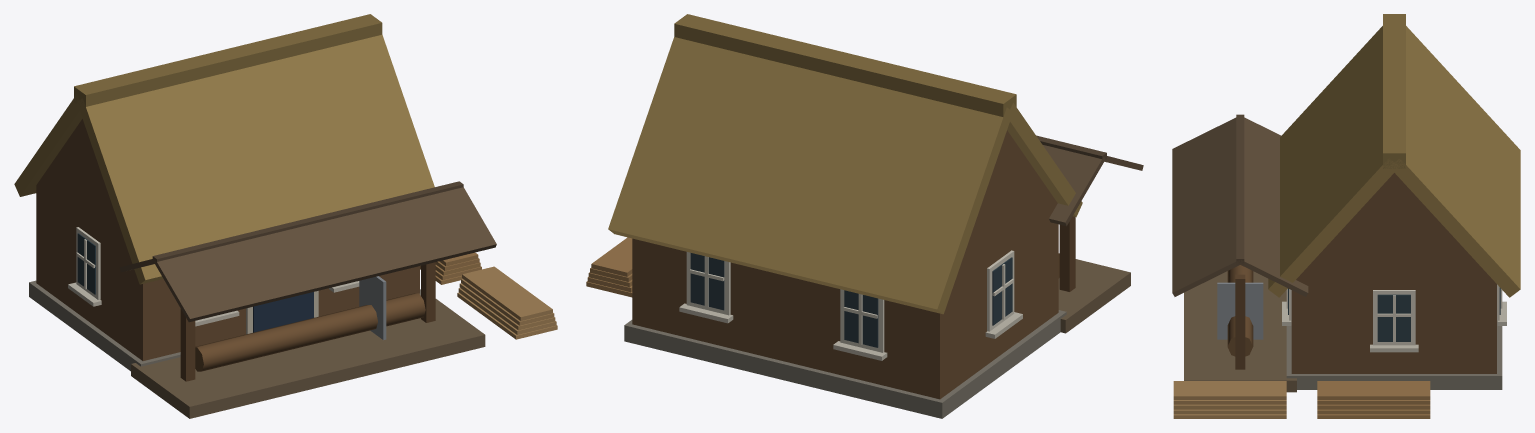
The model's file is procedural_saw@3.glb.
The picture shows the model from 3 angles, left to right: view 1: azimuth 30°, elevation 25°; view 2: azimuth 150°, elevation 25°; view 3: azimuth 270°, elevation 25°; orthographic projection. The views are drawn at different scales.
Visible parts, largest first — view 1: part_0; view 2: part_0; view 3: part_0.
Part boxes in pixels (box(x1,y1,x2,y2)): part_0: box(14, 14, 557, 418); part_0: box(586, 14, 1143, 418); part_0: box(1172, 14, 1520, 418).
Bounding box in the file's own units: 7.97 × 5.14 × 6.78.
